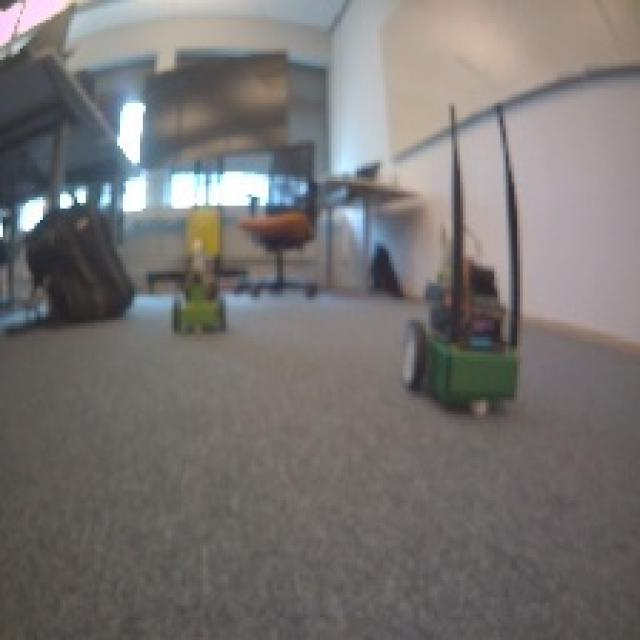robot: (399, 286, 526, 416), (169, 270, 229, 332)
